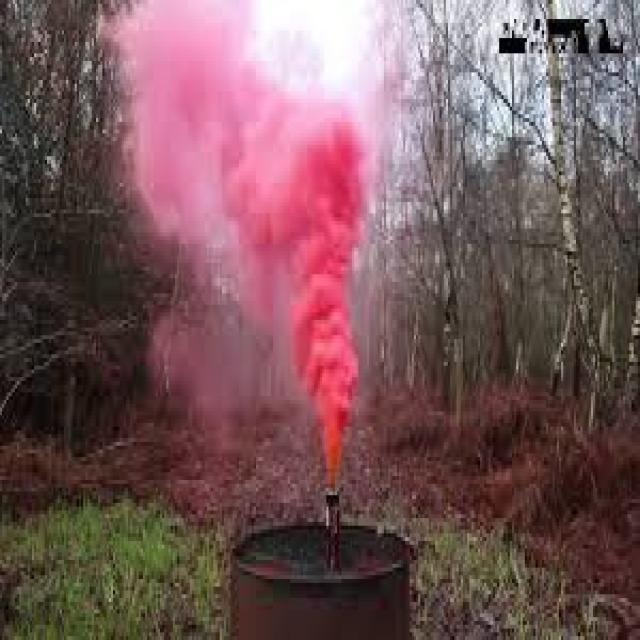Smoke: (96, 0, 376, 491)
